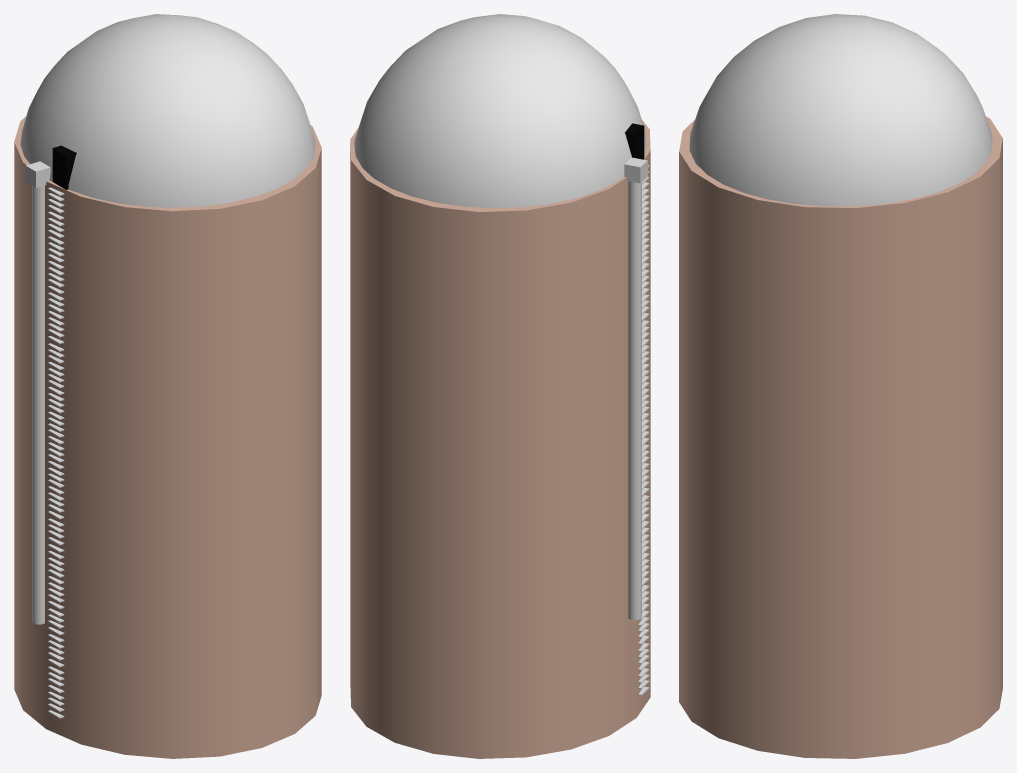
Rendered from Grain Silo _v2.fbx.
The picture shows the model from 3 angles, left to right: view 1: azimuth 30°, elevation 25°; view 2: azimuth 150°, elevation 25°; view 3: azimuth 270°, elevation 25°; orthographic projection.
Visible parts, largest first — view 1: Door, Stair; view 2: Door, Stair; view 3: Door.
Boxes of the visible parts, x1,y1,x2,y2 form: Door: [14, 14, 321, 758]; Stair: [48, 187, 64, 718]; Door: [350, 14, 650, 758]; Stair: [638, 165, 649, 695]; Door: [679, 14, 1002, 758].
Size of the model in its own units: 717 by 1685 by 740.
